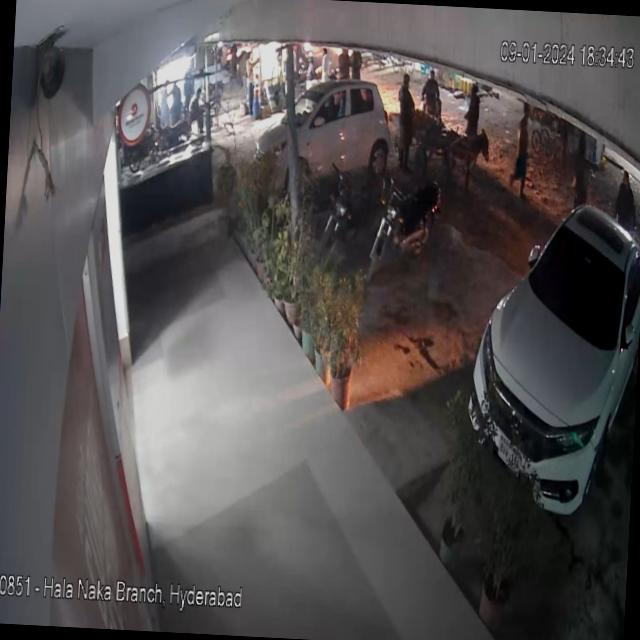Car: (462, 181, 640, 537), (252, 77, 410, 205)
Motorcycle: (369, 162, 446, 293), (322, 168, 382, 272)
